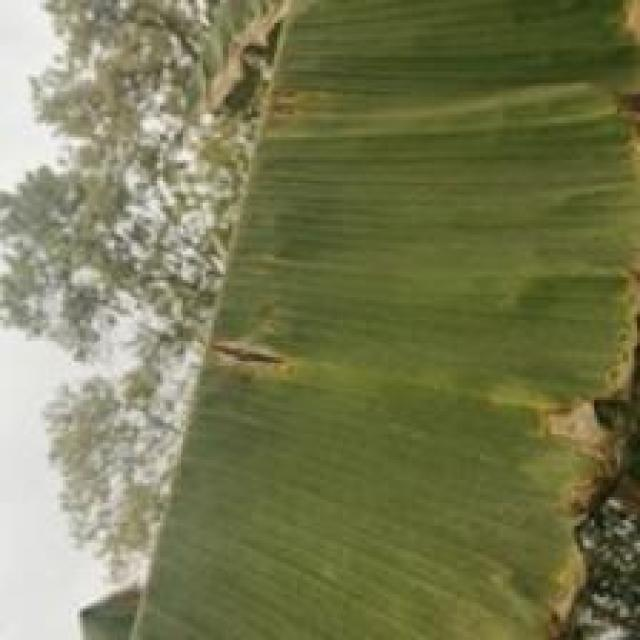Downey_mildrew: (466, 0, 640, 640), (197, 310, 337, 420), (232, 59, 374, 152)
